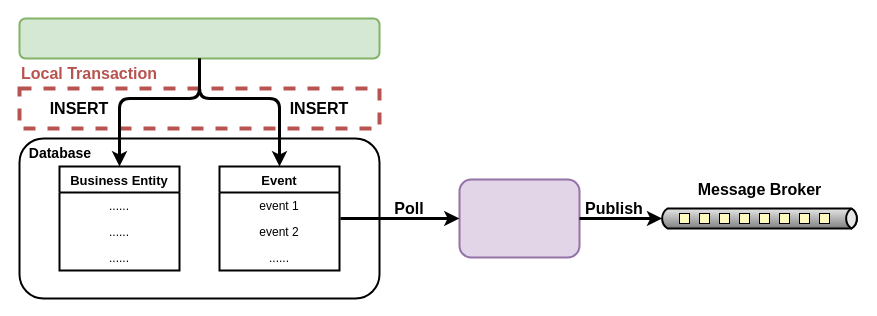
This 877x316 diagram has some shape labels left out. The centre of each missing label's shape, as x and y in pixels:
Event Publisher: the point at 519,218
Service: the point at 199,38
